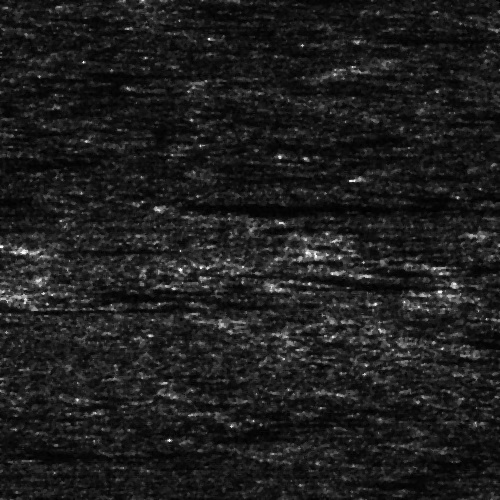object: (31, 194, 292, 215), (310, 174, 393, 181), (450, 196, 500, 205), (0, 245, 73, 250), (330, 35, 383, 40), (0, 304, 14, 309)
shadow: (162, 194, 439, 215), (0, 304, 269, 309), (357, 35, 500, 40), (32, 245, 171, 250), (352, 174, 423, 181), (482, 196, 500, 205)
